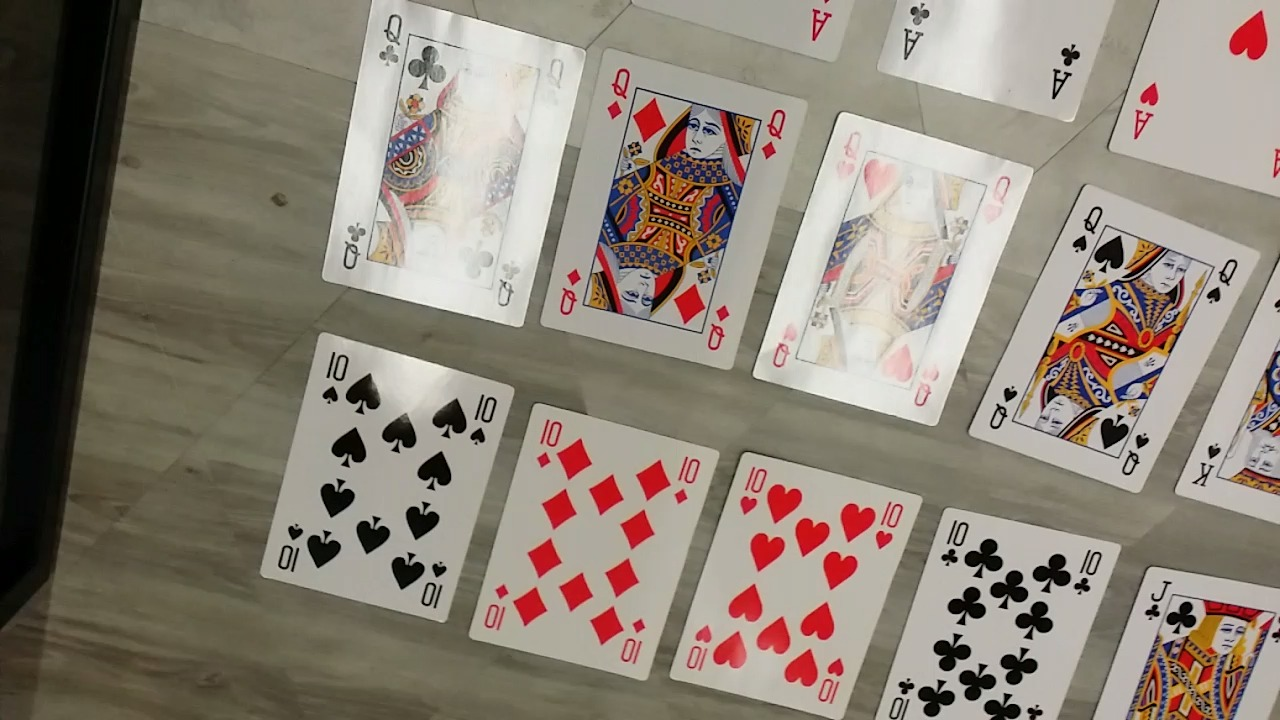10_club: (881, 500, 1108, 720)
10_diamond: (465, 402, 719, 683)
10_heart: (670, 449, 923, 713)
10_spade: (251, 329, 512, 627)
jack_club: (1100, 564, 1280, 720)
queen_club: (321, 0, 586, 329)
queen_diamond: (541, 48, 807, 368)
queen_heart: (749, 108, 1033, 427)
queen_spade: (969, 181, 1264, 494)
